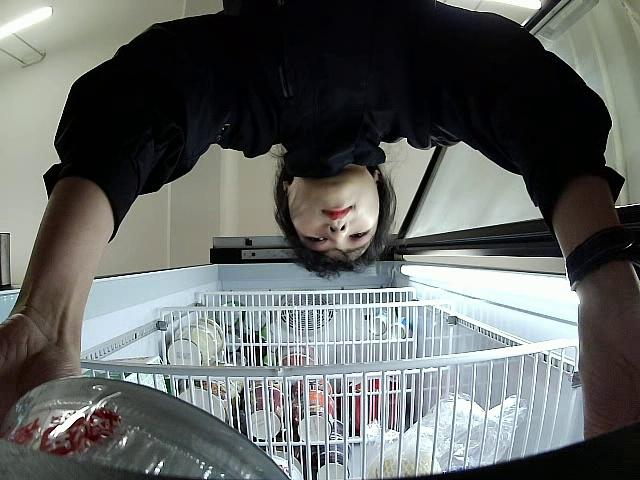09_yukGaeJang: (0, 378, 294, 480)
